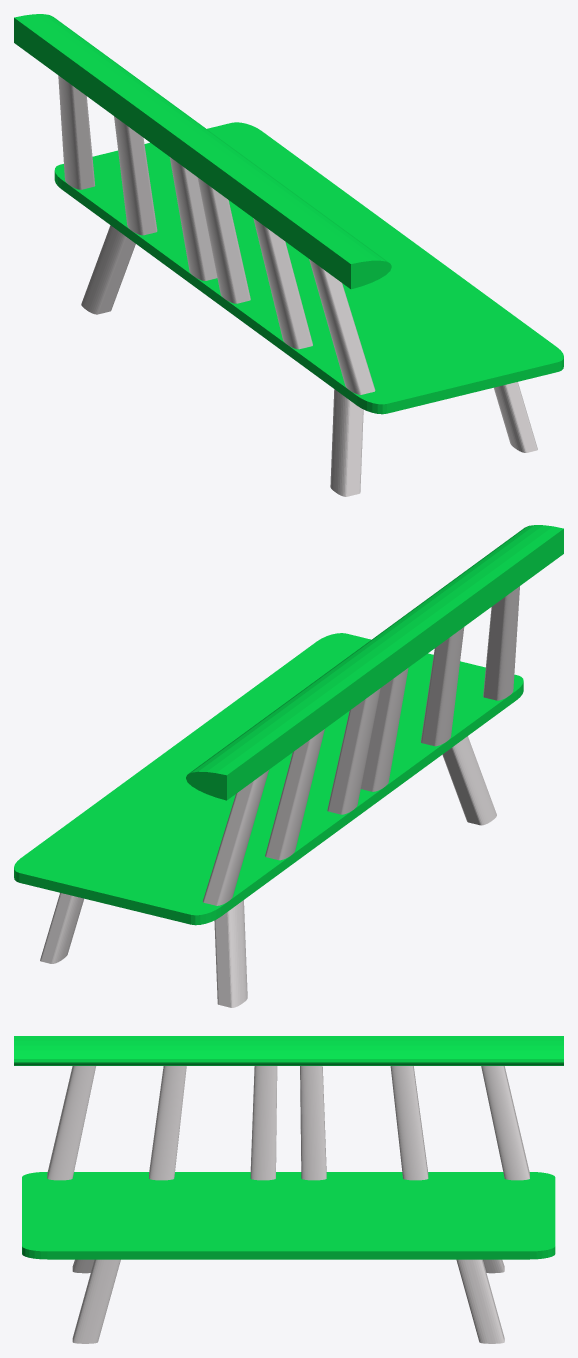
File: PuistonTuoliV2.fbx
3 renders of one model, top to bottom at view 1: azimuth 30°, elevation 25°; view 2: azimuth 150°, elevation 25°; view 3: azimuth 270°, elevation 25°, orthographic. The views are drawn at different scales.
Parts seen in each view (by area): view 1: Cube.001, Cube, Cube.002; view 2: Cube.001, Cube, Cube.002; view 3: Cube.001, Cube, Cube.002.
Boxes of the visible parts, box(x1,y1,x2,y2) form: Cube.001: box(54, 122, 563, 414); Cube: box(58, 75, 537, 496); Cube.002: box(14, 14, 391, 289); Cube.001: box(14, 633, 523, 925); Cube: box(40, 586, 519, 1007); Cube.002: box(186, 525, 563, 800); Cube.001: box(22, 1172, 555, 1259); Cube: box(47, 1066, 529, 1343); Cube.002: box(14, 1036, 563, 1065).
Bounding box in the file's own units: 266 × 299 × 685.
